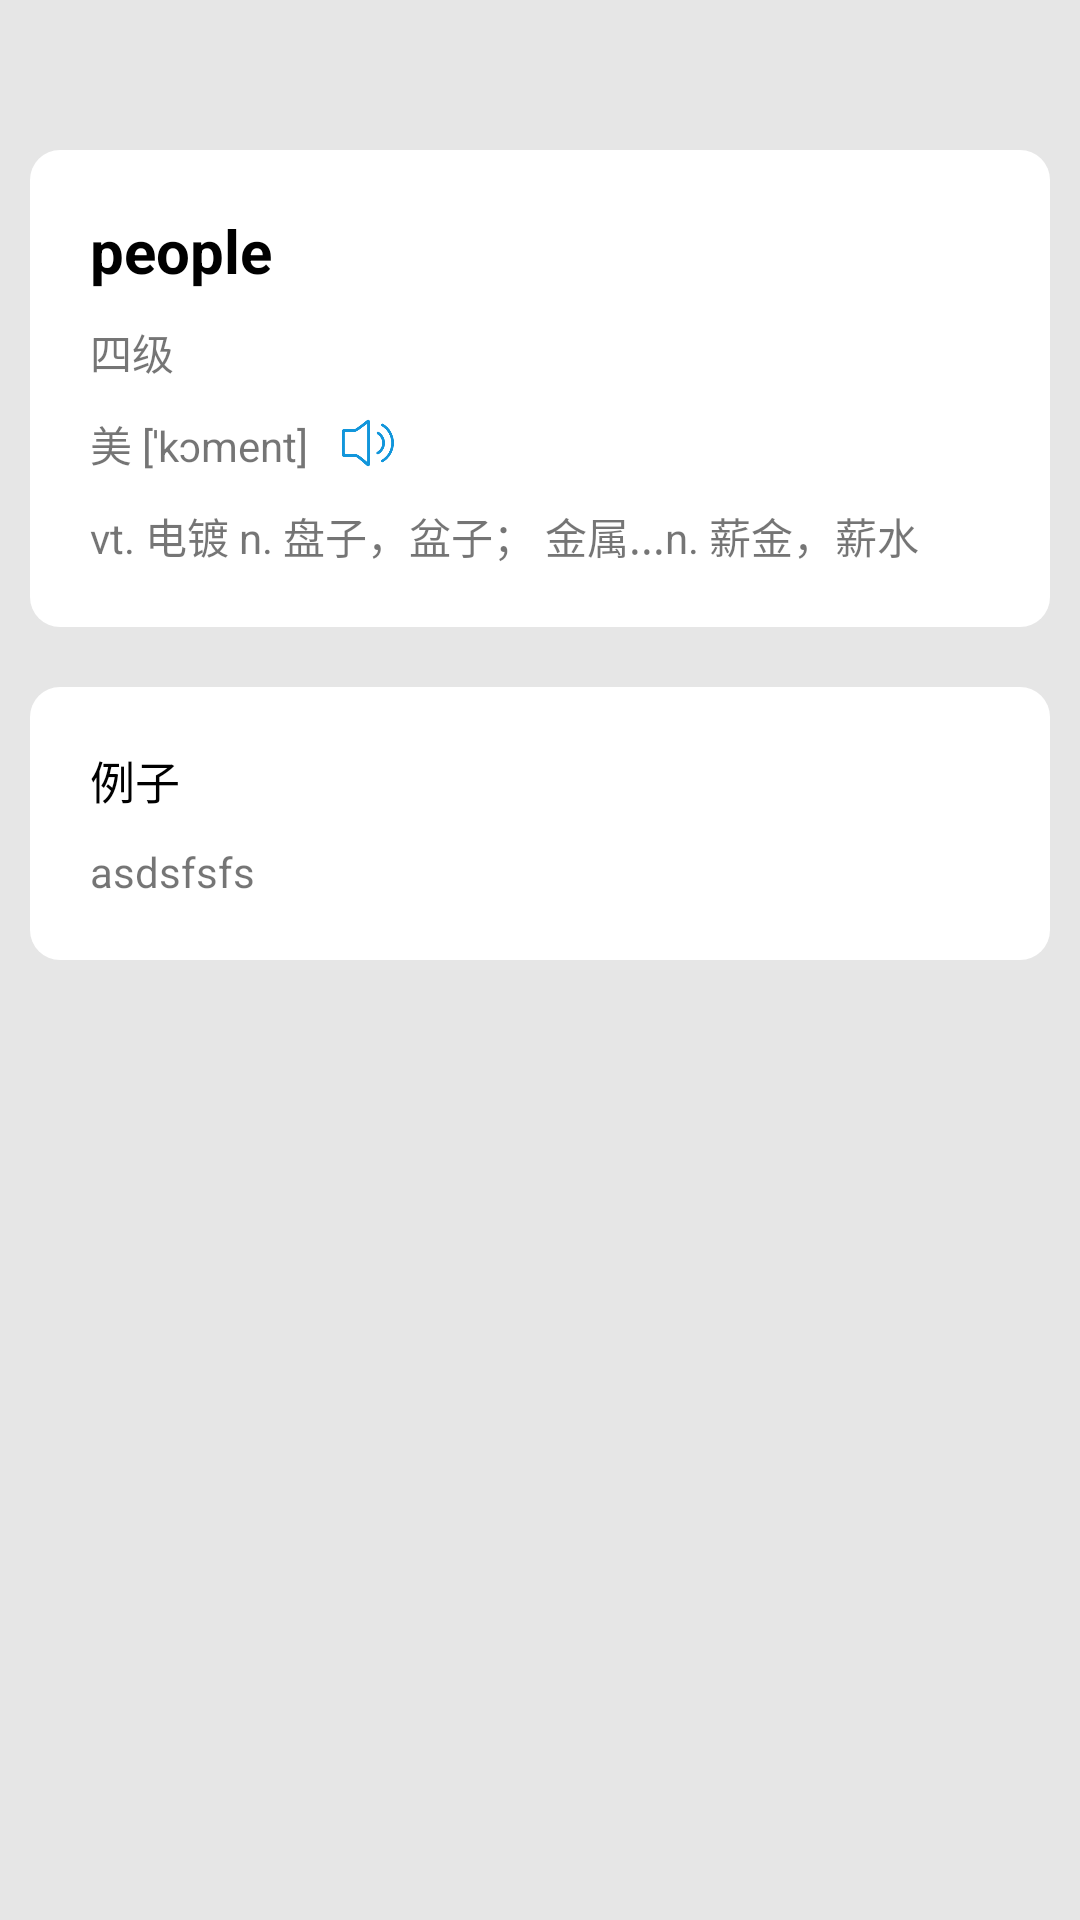

Icons on this 1080px x 1920px Android screen, each with its box as [x1,y1,x2,y2]:
bofang: [342,420,394,466]
